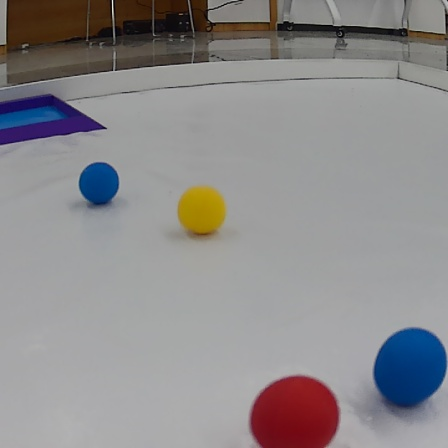blue: (372, 327, 446, 407), (75, 162, 120, 205)
blue_aim: (0, 93, 99, 141)
red: (247, 374, 341, 447)
yellow: (176, 183, 226, 237)
